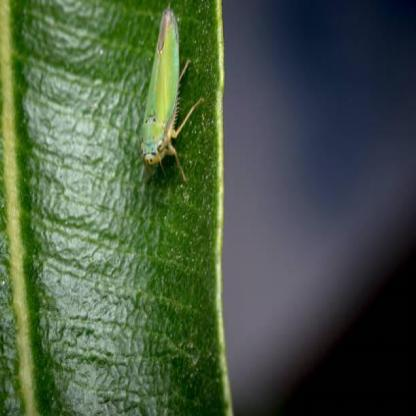Green-Leafhopper: (139, 6, 202, 174)
